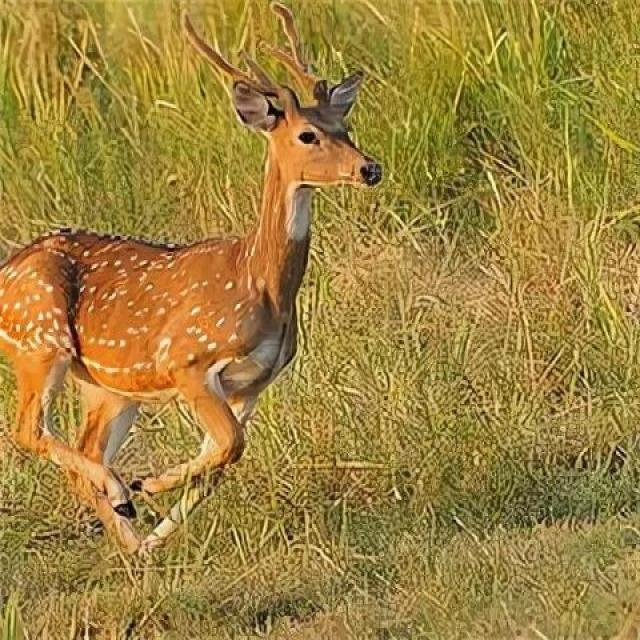deer: (14, 89, 362, 531)
